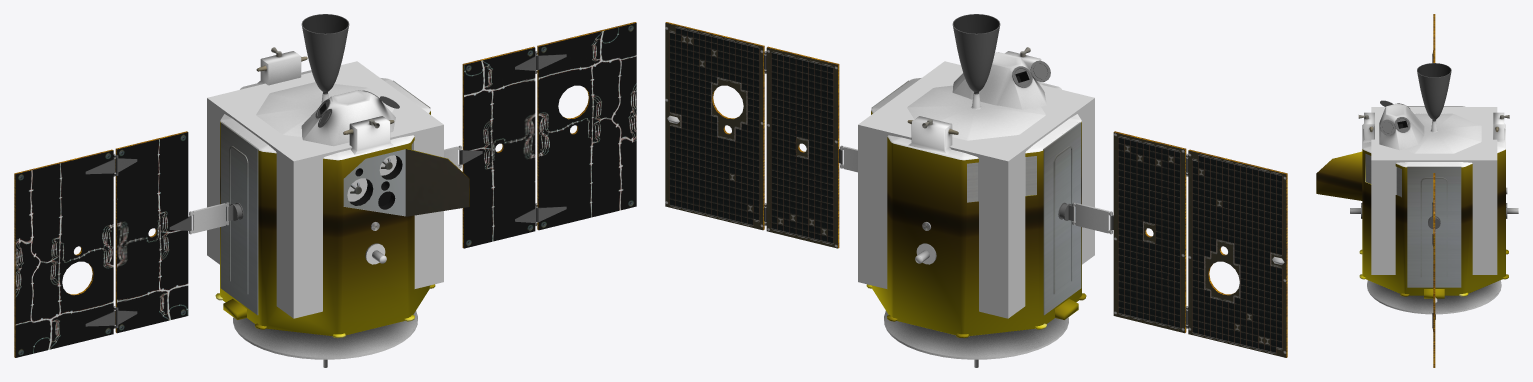
File: Clementine.glb
3 renders of one model, left to right at view 1: azimuth 30°, elevation 25°; view 2: azimuth 150°, elevation 25°; view 3: azimuth 270°, elevation 25°, orthographic. The views are drawn at different scales.
Visible parts, largest first — view 1: tex_01, _root, foil_gold, foil_white, AO_dish, AO_hinges; view 2: shiny_panel, foil_gold, _root, tex_01, foil_white, AO_dish, AO_hinges; view 3: tex_01, _root, foil_gold, foil_white, AO_dish.
Part boxes in pixels (x1,y1,x2,y2): tex_01: (14, 14, 636, 357); _root: (207, 61, 443, 318); foil_gold: (215, 111, 469, 338); foil_white: (220, 51, 430, 160); AO_dish: (233, 243, 417, 367); AO_hinges: (85, 51, 566, 328); shiny_panel: (665, 23, 1286, 357); foil_gold: (866, 111, 1086, 338); _root: (858, 61, 1094, 318); tex_01: (665, 14, 1287, 357); foil_white: (871, 51, 1081, 160); AO_dish: (884, 243, 1068, 367); AO_hinges: (764, 51, 1188, 328); tex_01: (1358, 14, 1509, 367); _root: (1371, 107, 1497, 274); foil_gold: (1316, 149, 1508, 298); foil_white: (1362, 103, 1505, 167); AO_dish: (1350, 203, 1518, 319).
Bounding box in the file's own units: 4.13 × 2.18 × 1.6.
7 materials, 6 textured.
